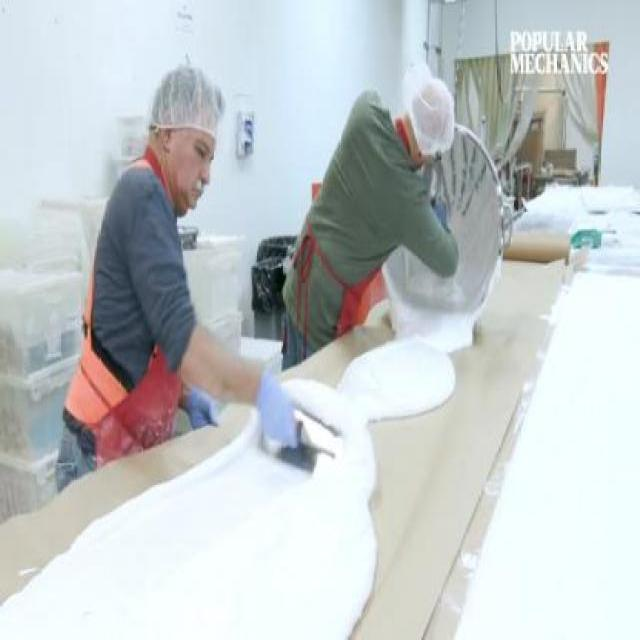gloved_hand: (251, 350, 317, 473), (172, 365, 223, 441)
